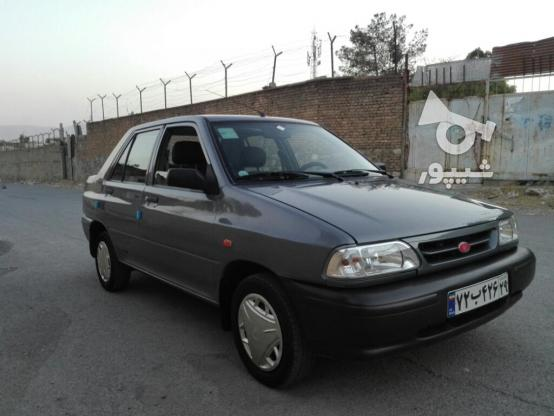car: (446, 271, 512, 319)
